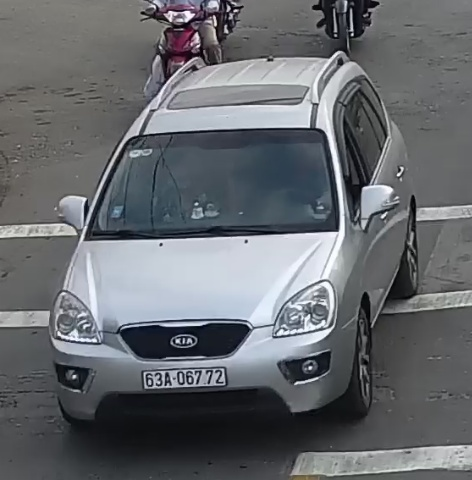vehicle plate: (138, 362, 242, 395)
